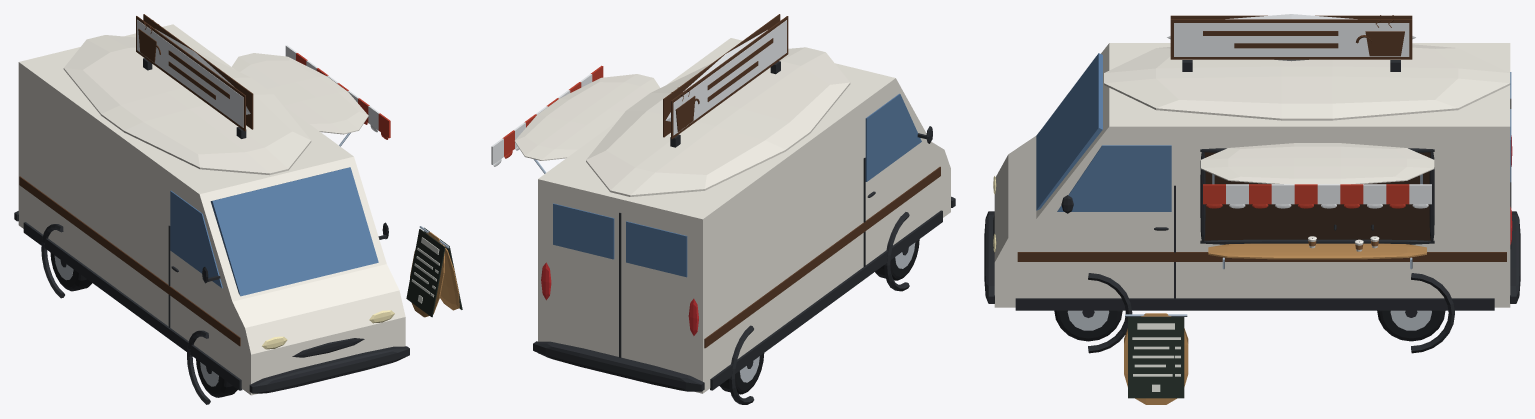
File: smoko.glb
3 renders of one model, left to right at view 1: azimuth 30°, elevation 25°; view 2: azimuth 150°, elevation 25°; view 3: azimuth 270°, elevation 25°, orthographic. The views are drawn at different scales.
Parts seen in each view (by area): view 1: CoffeeVan; view 2: CoffeeVan; view 3: CoffeeVan.
Boxes of the visible parts, x1,y1,x2,y2 form: CoffeeVan: (14,14,462,404); CoffeeVan: (491,14,955,404); CoffeeVan: (984,14,1520,404).
Bounding box in the file's own units: 3.52 × 3.14 × 5.15.
